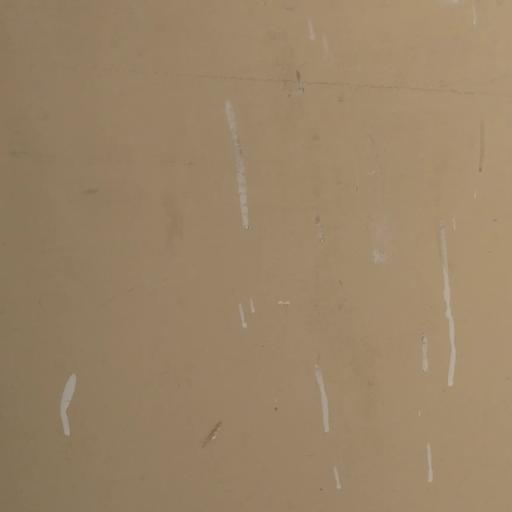stain: (358, 184, 489, 486), (181, 275, 348, 496), (201, 80, 339, 272), (26, 323, 101, 458), (297, 0, 371, 102), (449, 99, 512, 186), (459, 0, 503, 53)
